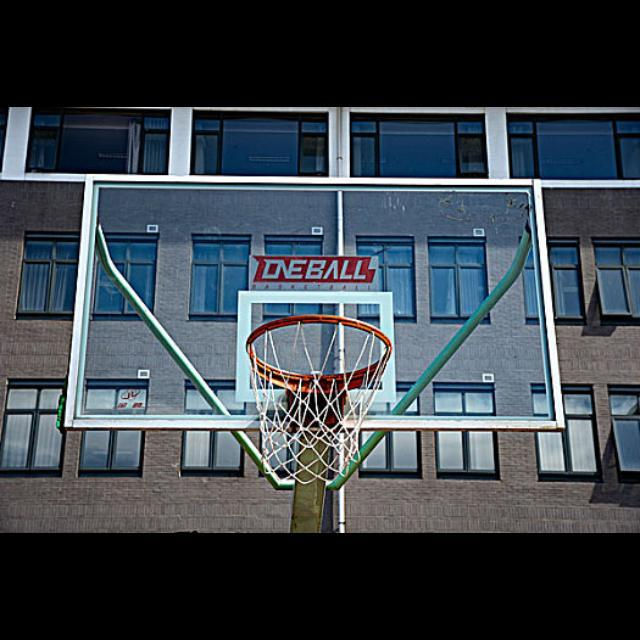rim: (245, 314, 392, 486)
